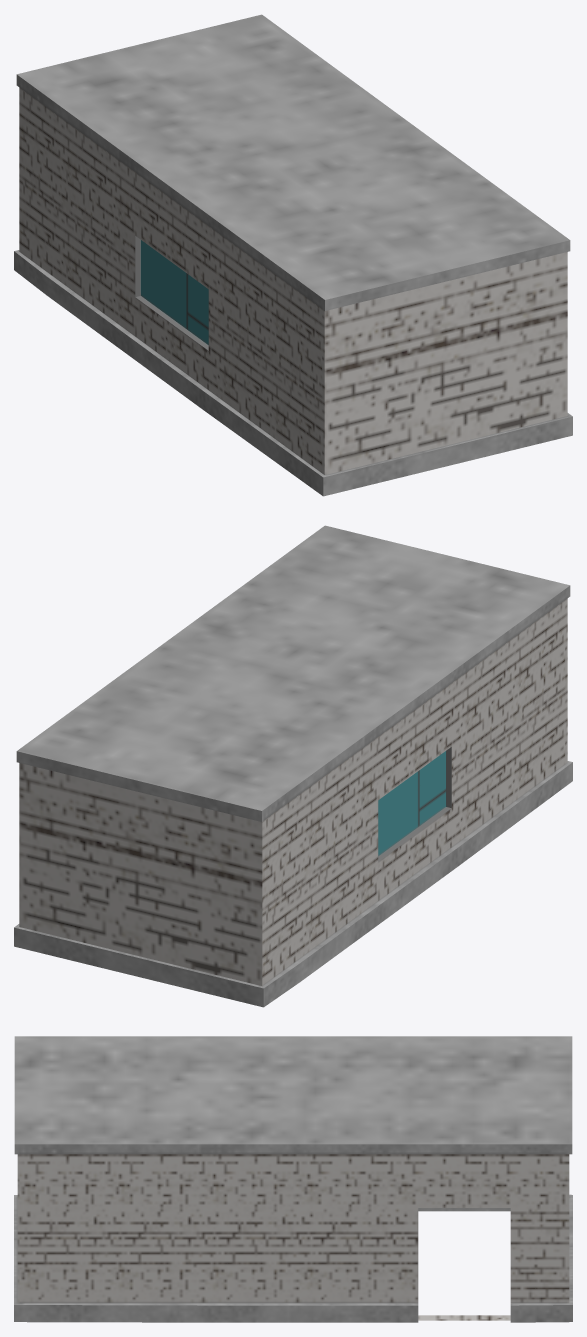
Rendered from kpp.glb.
The picture shows the model from 3 angles, top to bottom: view 1: azimuth 30°, elevation 25°; view 2: azimuth 150°, elevation 25°; view 3: azimuth 270°, elevation 25°; orthographic projection. The views are drawn at different scales.
Visible parts, largest first — view 1: Box001; view 2: Box001; view 3: Box001.
Part boxes in pixels (left/top/right/bottom): Box001: left=14, top=14, right=572, bottom=496; Box001: left=14, top=525, right=572, bottom=1007; Box001: left=14, top=1036, right=572, bottom=1322.
Size of the model in its own units: 1.09 by 0.8076 by 2.32.
Materials: 1 (1 with a texture image).
